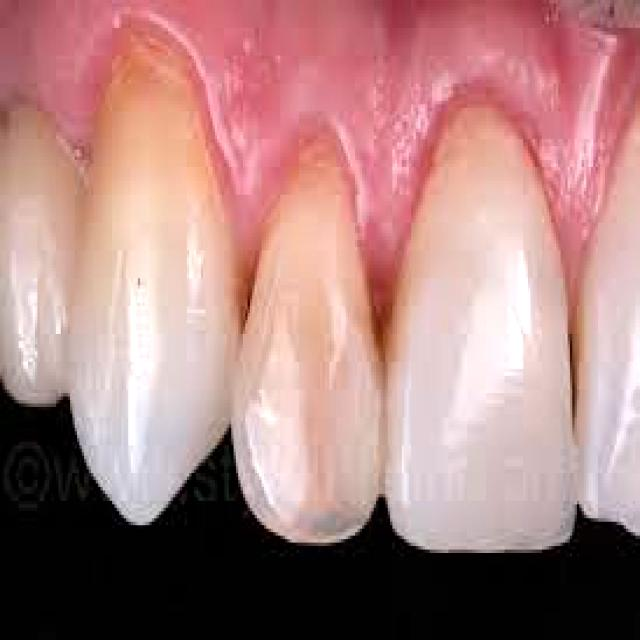tooth-discoloration: (231, 143, 378, 539)
